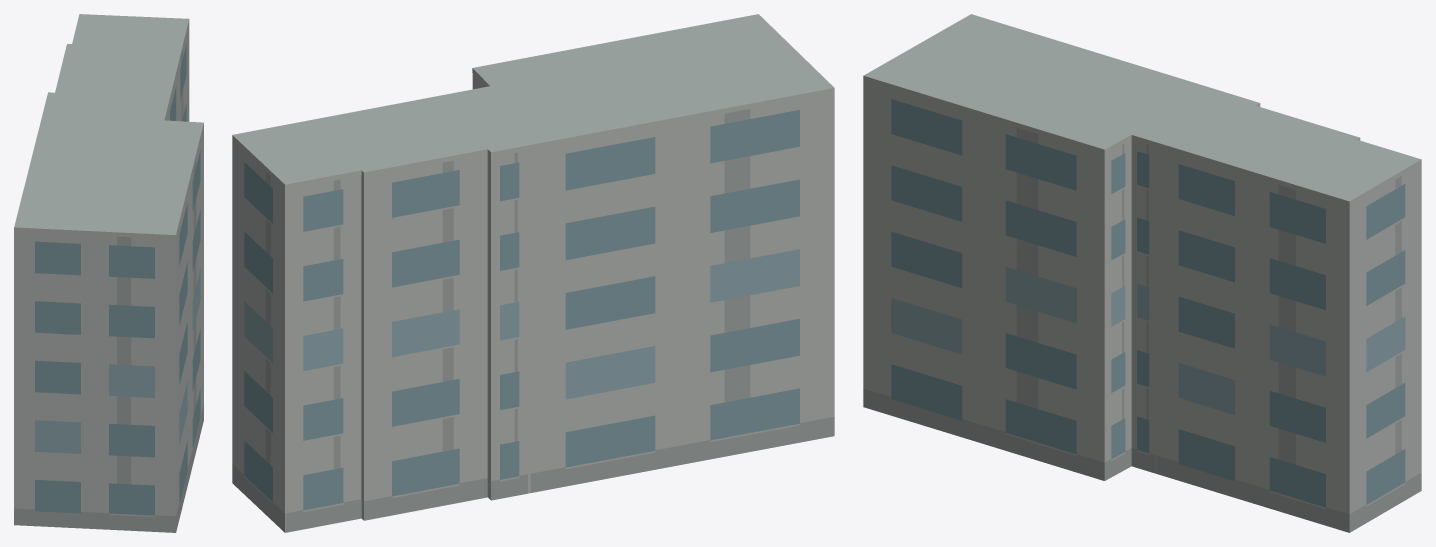
The model's file is survey-upis-32916864.glb.
3 renders of one model, left to right at view 1: azimuth 30°, elevation 25°; view 2: azimuth 150°, elevation 25°; view 3: azimuth 270°, elevation 25°, orthographic. The views are drawn at different scales.
Parts seen in each view (by area): view 1: survey-upis-32916864.tmp; view 2: survey-upis-32916864.tmp; view 3: survey-upis-32916864.tmp.
Part boxes in pixels (x1,y1,x2,y2): survey-upis-32916864.tmp: [14, 14, 203, 532]; survey-upis-32916864.tmp: [232, 14, 834, 532]; survey-upis-32916864.tmp: [863, 14, 1421, 532].
Bounding box in the file's own units: 20.02 × 16.5 × 25.2.
